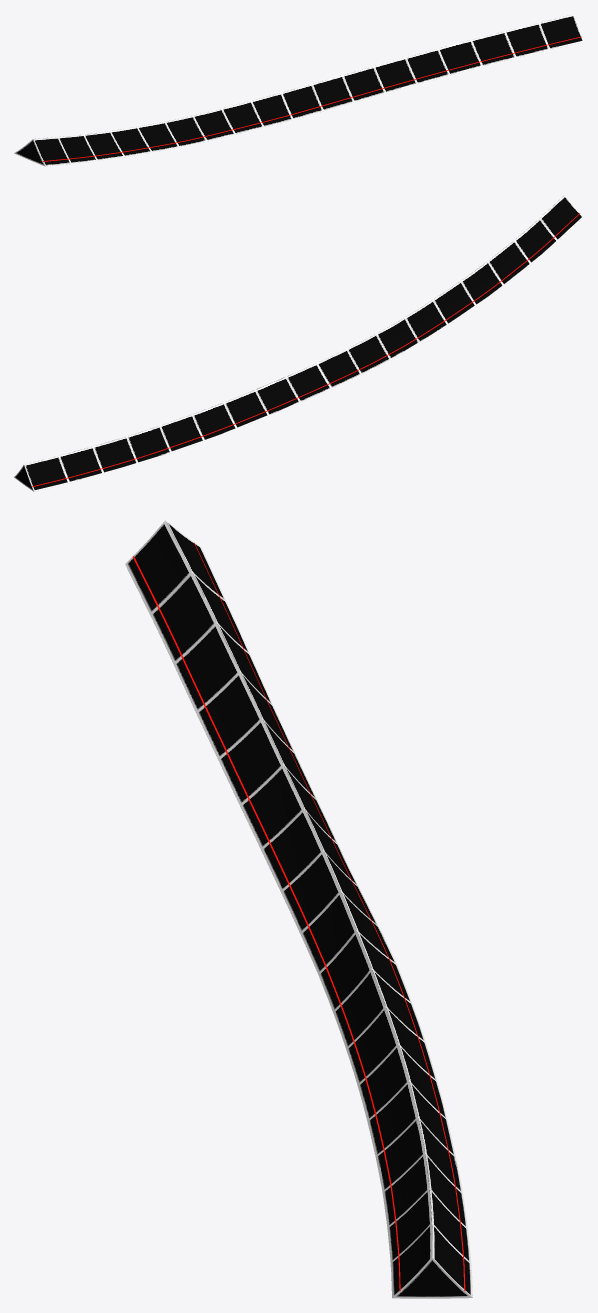
File: Platform-3-new.fbx
3 views of the same model, one above another, from view 1: azimuth 30°, elevation 25°; view 2: azimuth 210°, elevation 25°; view 3: azimuth 270°, elevation 25° (orthographic). The views are drawn at different scales.
Parts seen in each view (by area): view 1: ramp.008; view 2: ramp.008; view 3: ramp.008.
Part boxes in pixels (<box>): ramp.008: <box>14,14,583,166</box>; ramp.008: <box>14,195,583,491</box>; ramp.008: <box>125,520,472,1298</box>.
Size of the model in its own units: 6461 by 929 by 1576.
